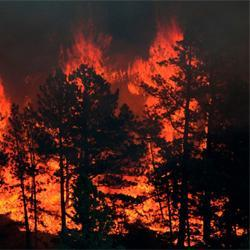fire: (3, 173, 57, 225), (129, 178, 162, 222), (149, 49, 176, 99)
